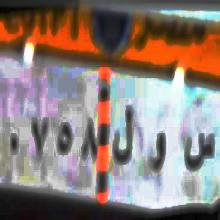0: (7, 125, 20, 162)
5: (57, 116, 72, 159)
7: (29, 107, 49, 166)
8: (79, 119, 97, 169)
laam: (112, 100, 135, 171)
seen: (183, 126, 217, 172)
waw: (149, 125, 167, 179)
